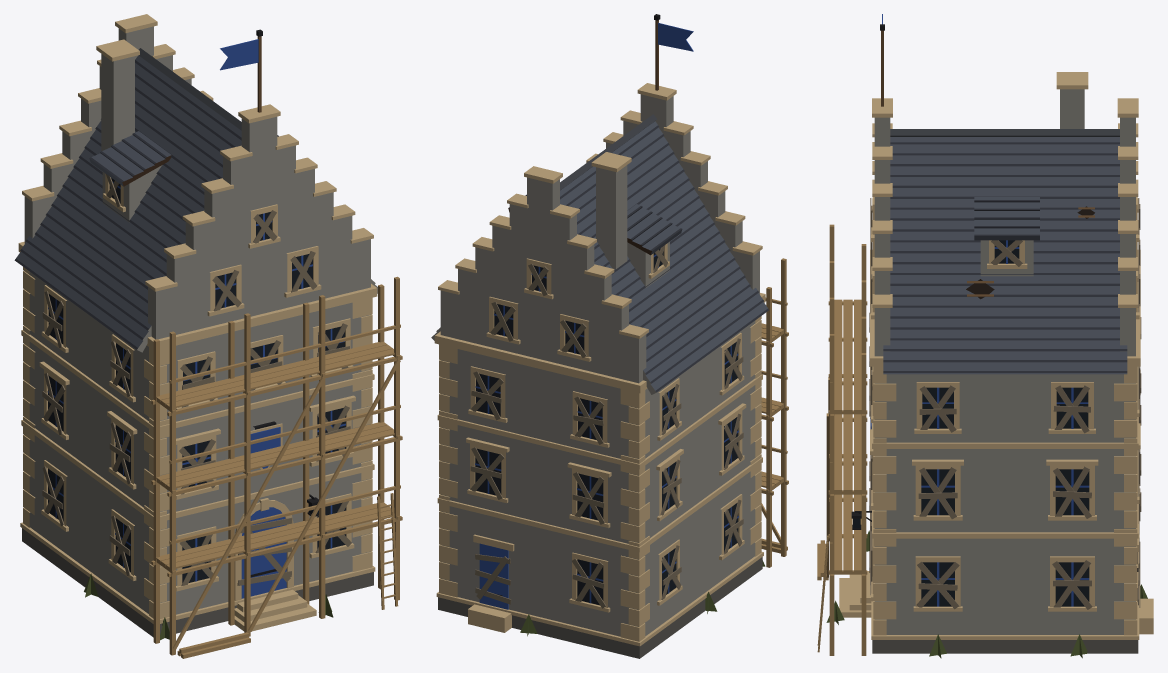
The model's file is steinhaus.glb.
3 renders of one model, left to right at view 1: azimuth 30°, elevation 25°; view 2: azimuth 150°, elevation 25°; view 3: azimuth 270°, elevation 25°, orthographic. The views are drawn at different scales.
Visible parts, largest first — view 1: Haus, Geruest, Leerstand, Fahne, Wappen; view 2: Haus, Leerstand, Geruest, Fahne; view 3: Haus, Geruest, Leerstand.
Part boxes in pixels (x1,y1,x2,y2): Haus: (14,14,377,637); Geruest: (151,276,402,658); Leerstand: (42,174,351,640); Fahne: (220,29,262,112); Wappen: (250,421,282,469); Haus: (431,83,768,658); Leerstand: (470,245,765,636); Geruest: (761,258,788,567); Fahne: (654,14,693,90); Haus: (839,72,1153,653); Geruest: (817,224,867,655); Leerstand: (826,198,1147,658).
Bounding box in the file's own units: 7.96 × 17.96 × 9.52.
